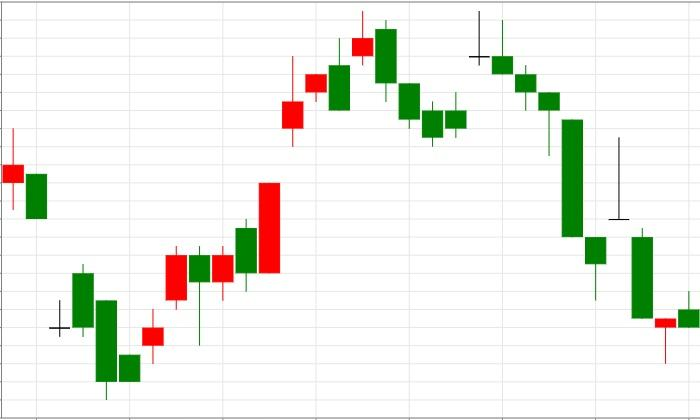bearish_engulfing_fall: (95, 38, 351, 400)
three_black_crows_fall: (421, 11, 560, 156)
